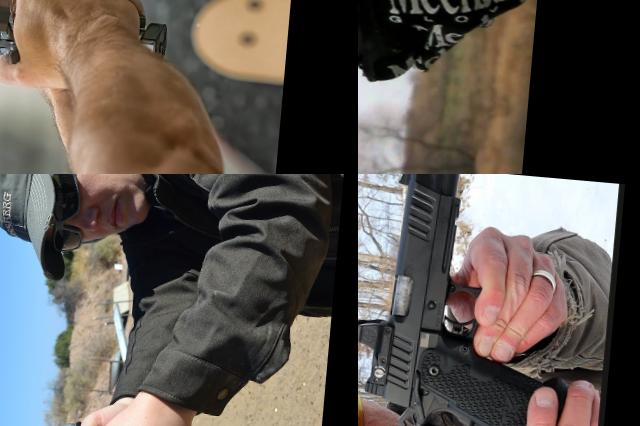handgun: (358, 174, 588, 426), (358, 0, 468, 174), (0, 0, 180, 84)
